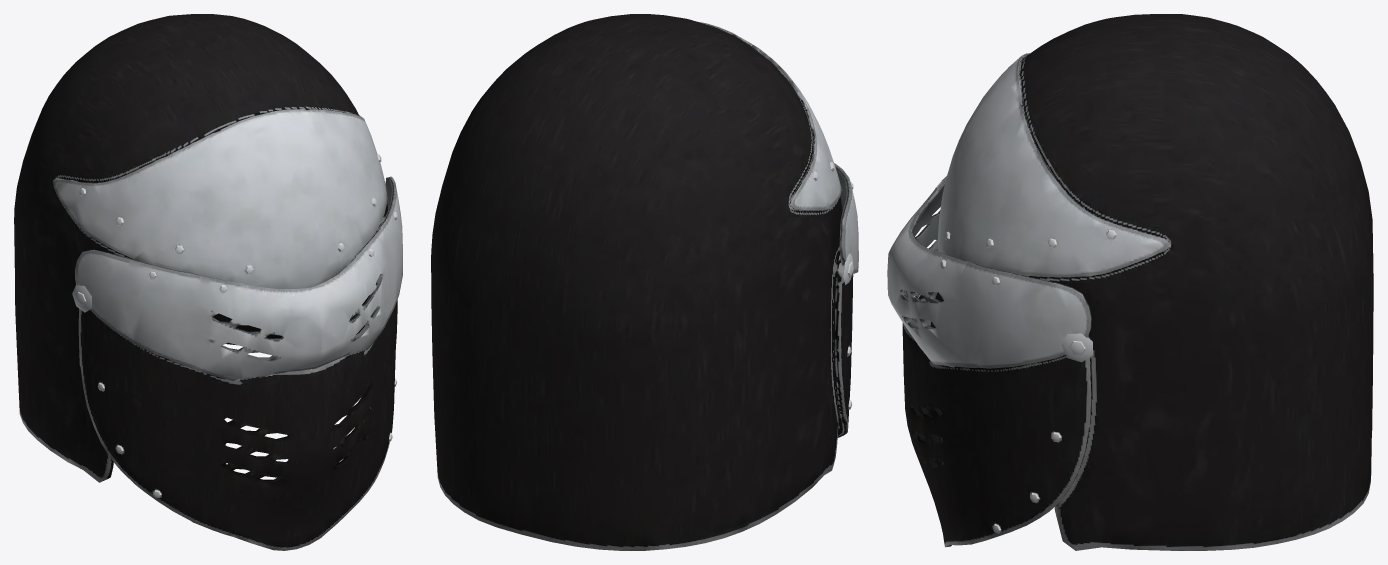
File: infernal.glb
3 views of the same model, side by side, from view 1: azimuth 30°, elevation 25°; view 2: azimuth 150°, elevation 25°; view 3: azimuth 270°, elevation 25° (orthographic). The views are drawn at different scales.
Parts seen in each view (by area): view 1: helm; view 2: helm; view 3: helm.
Boxes of the visible parts, bbox=[...] form: helm: bbox=[14, 14, 402, 550]; helm: bbox=[431, 14, 858, 550]; helm: bbox=[887, 14, 1373, 550].
Bounding box in the file's own units: 0.232 × 0.3083 × 0.2695.
Materials: 1 (1 with a texture image).
